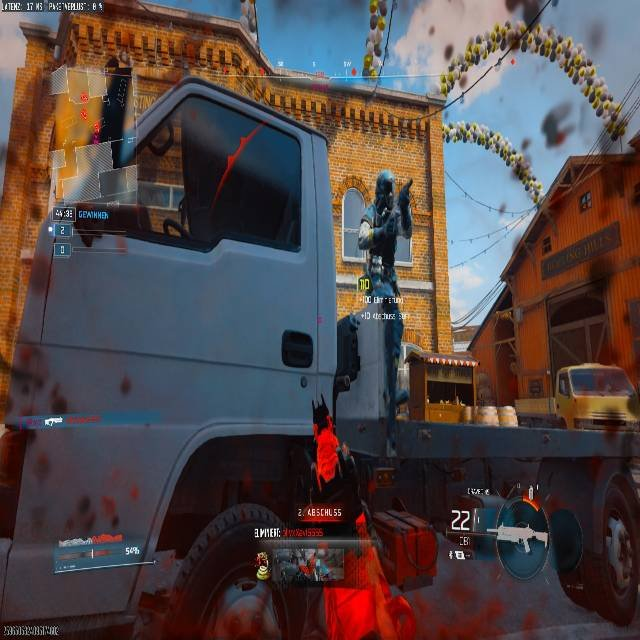player: (354, 175, 407, 316)
